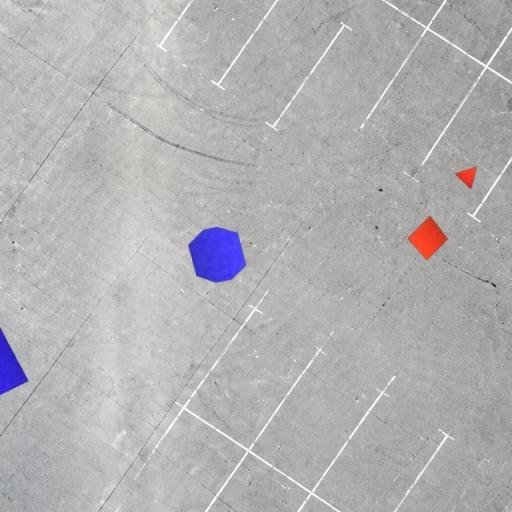BLUE_SQUARE: (0, 326, 30, 408)
RED_SQUARE: (407, 215, 449, 261)
